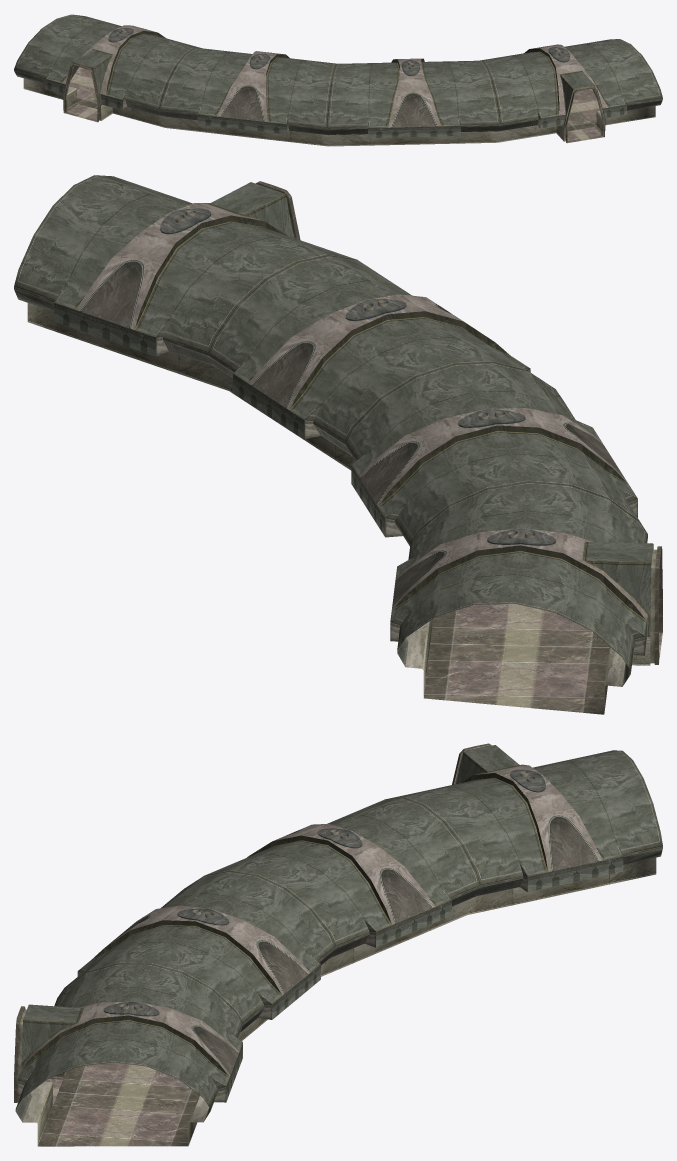
The model's file is thm_yavn_jedi_enclave_light_r17_curvehall1_mesh_r17.fbx.
3 renders of one model, top to bottom at view 1: azimuth 30°, elevation 25°; view 2: azimuth 150°, elevation 25°; view 3: azimuth 270°, elevation 25°, orthographic. The views are drawn at different scales.
Visible parts, largest first — view 1: mesh_node; view 2: mesh_node; view 3: mesh_node.
Part boxes in pixels (left/top/right/bottom): mesh_node: left=14, top=14, right=662, bottom=146; mesh_node: left=14, top=175, right=662, bottom=714; mesh_node: left=14, top=743, right=662, bottom=1146.
Bounding box in the file's own units: 28.97 × 3.65 × 23.26.
